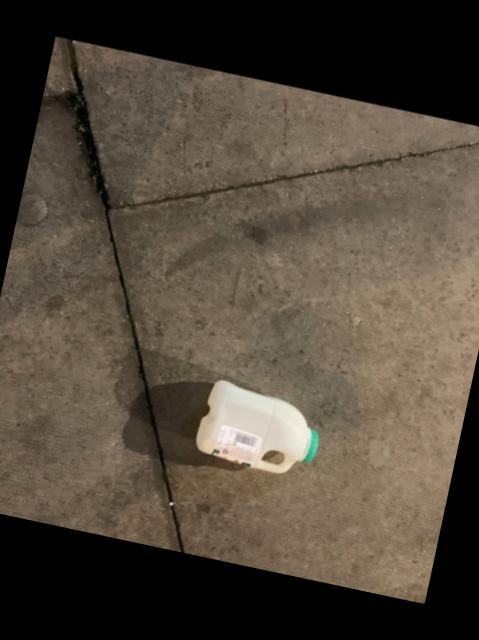plastic: (196, 382, 319, 474)
